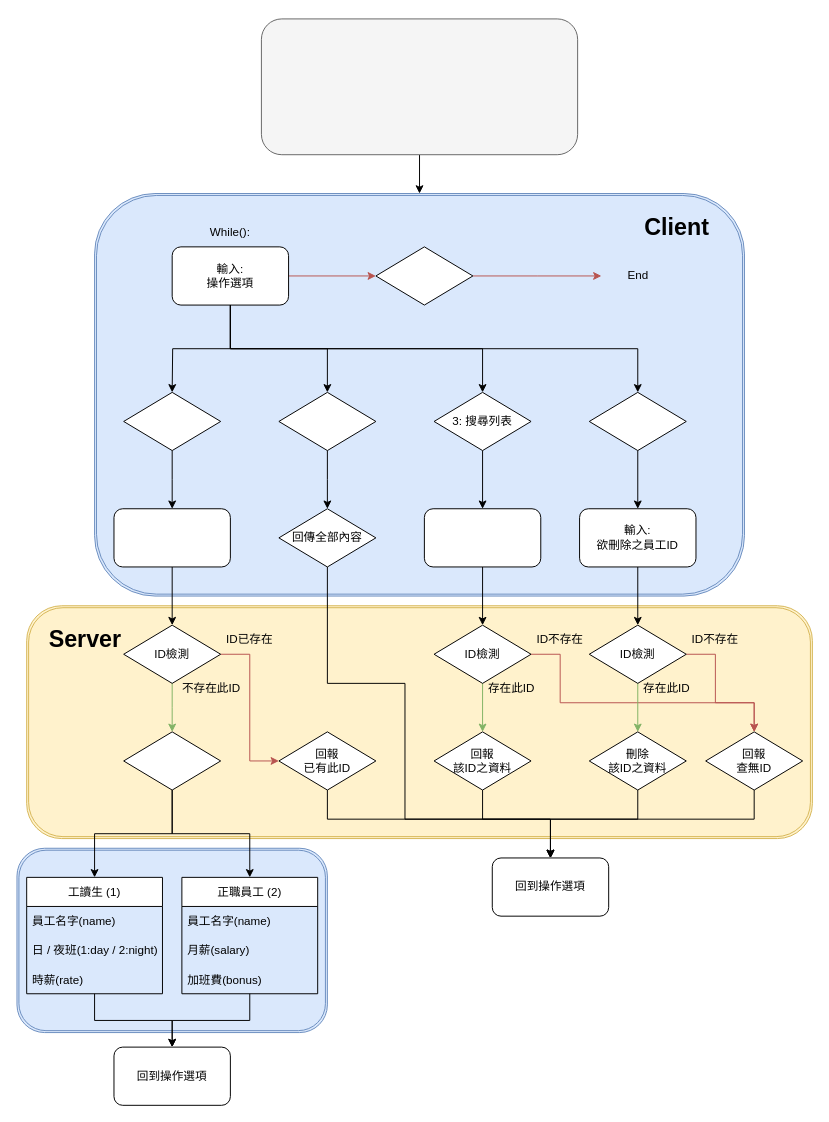
Image size: 829x1122. Some labels were removed from this diagram. Here are the shapes that lost their labels. From the top down, the centre of each, then its label:
At point 419,86: "Client與Server 透過本機port連線".
At point 424,275: "0: 結束程式".
At point 172,421: "1: 新增員工".
At point 327,421: "2: 列出全部".
At point 637,421: "4: 刪除紀錄".
At point 171,537: "輸入: 欲新增之員工ID".
At point 482,537: "輸入: 欲搜尋之員工ID".
At point 172,760: "追加輸入 員工資料".
